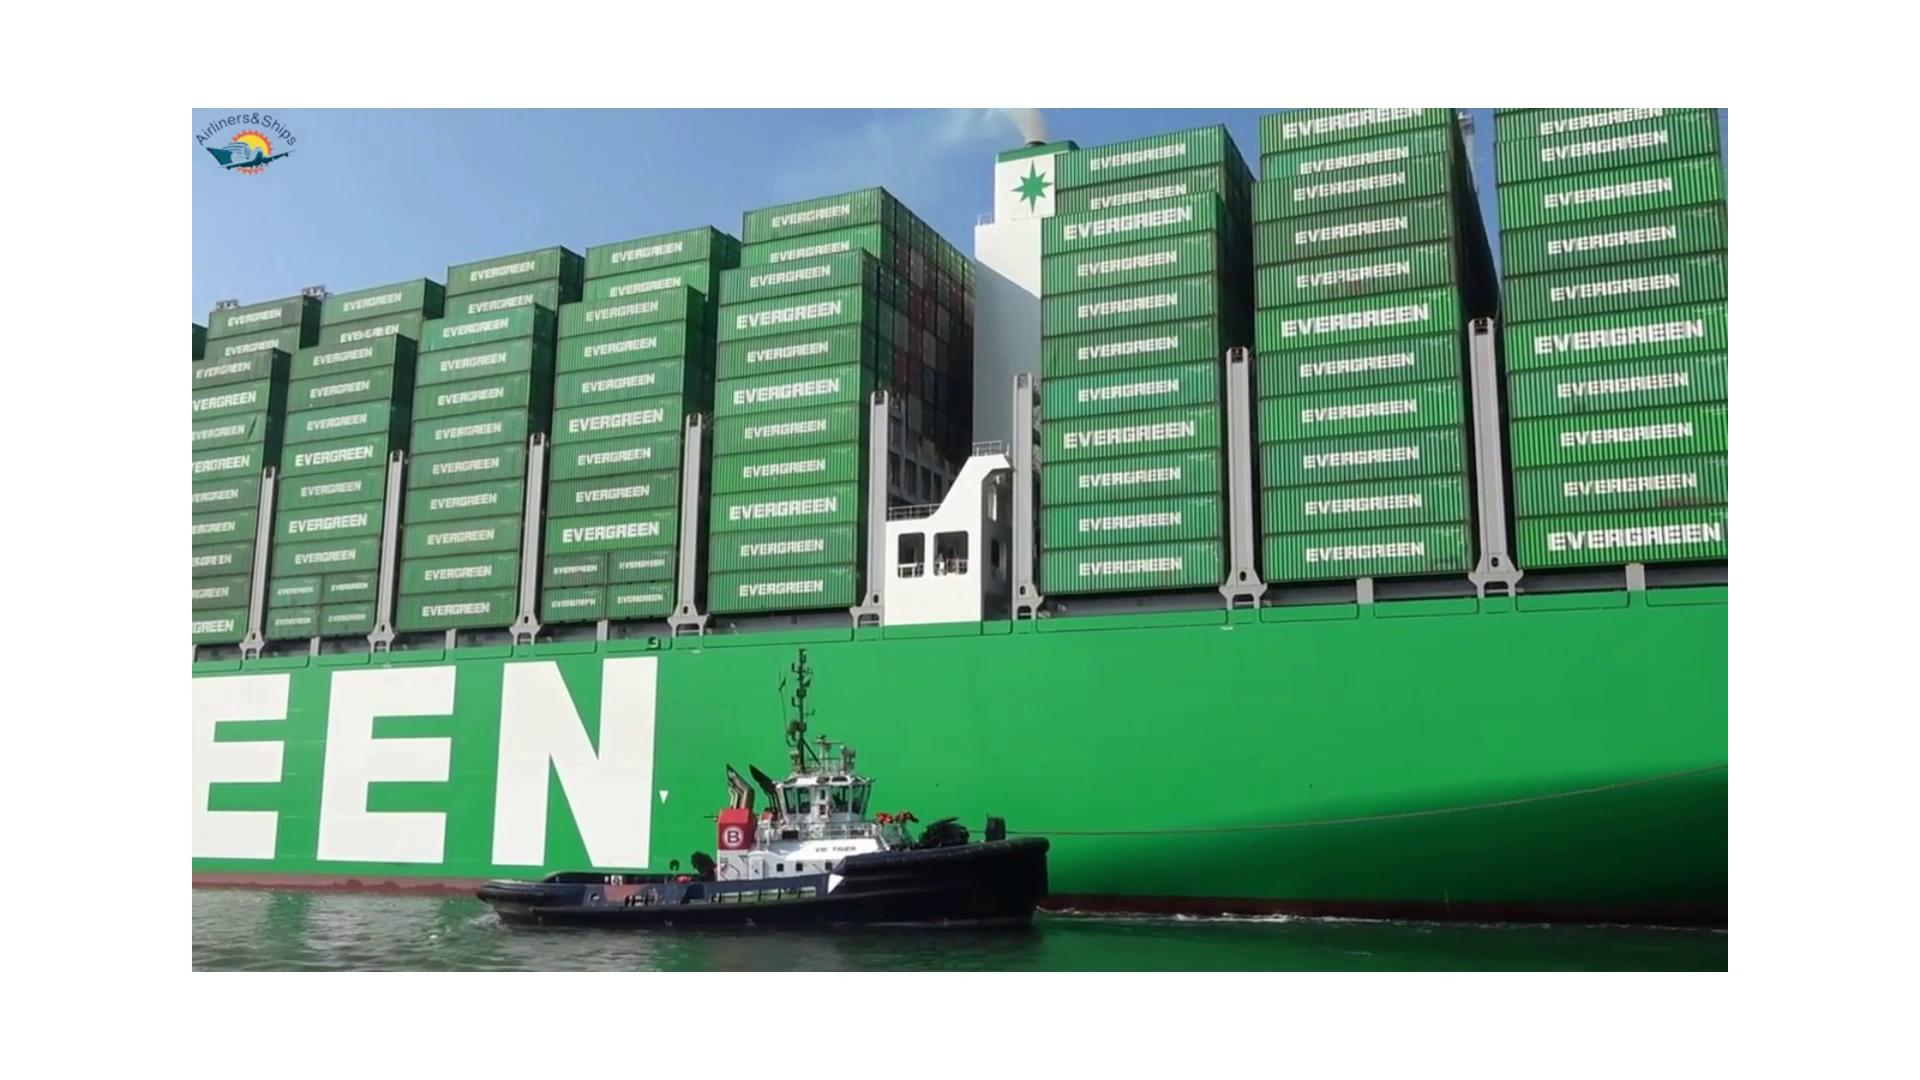OCR: (185, 641, 694, 914)
